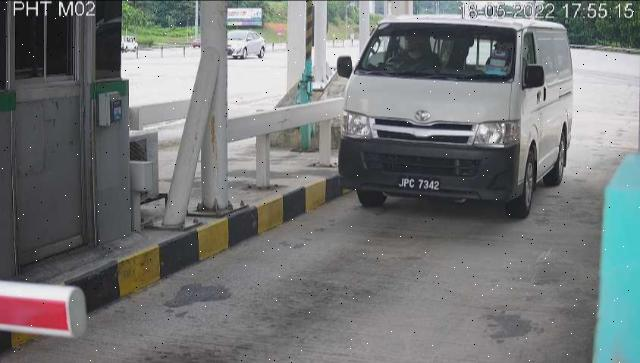License_Plate: (398, 174, 442, 196)
van: (340, 17, 574, 219)
